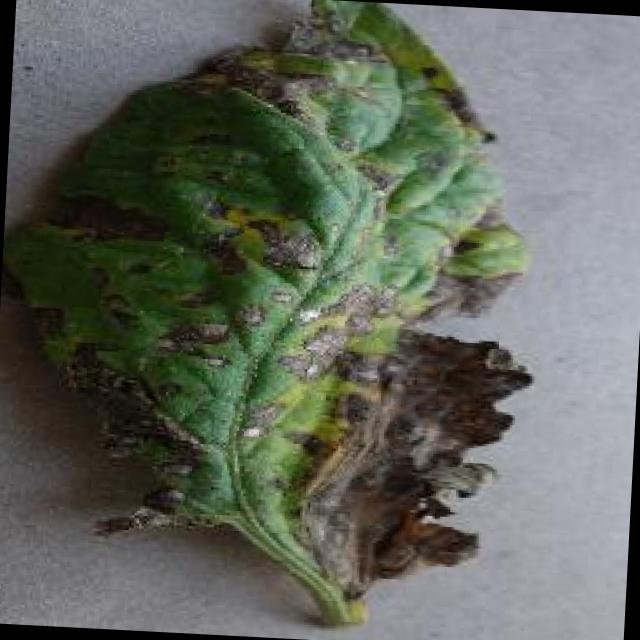Tomato_Early_Blight: (184, 129, 546, 606)
